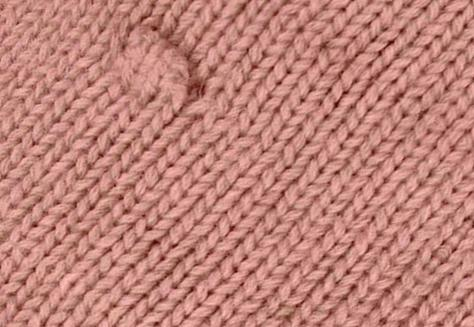knot: (115, 21, 196, 112)
